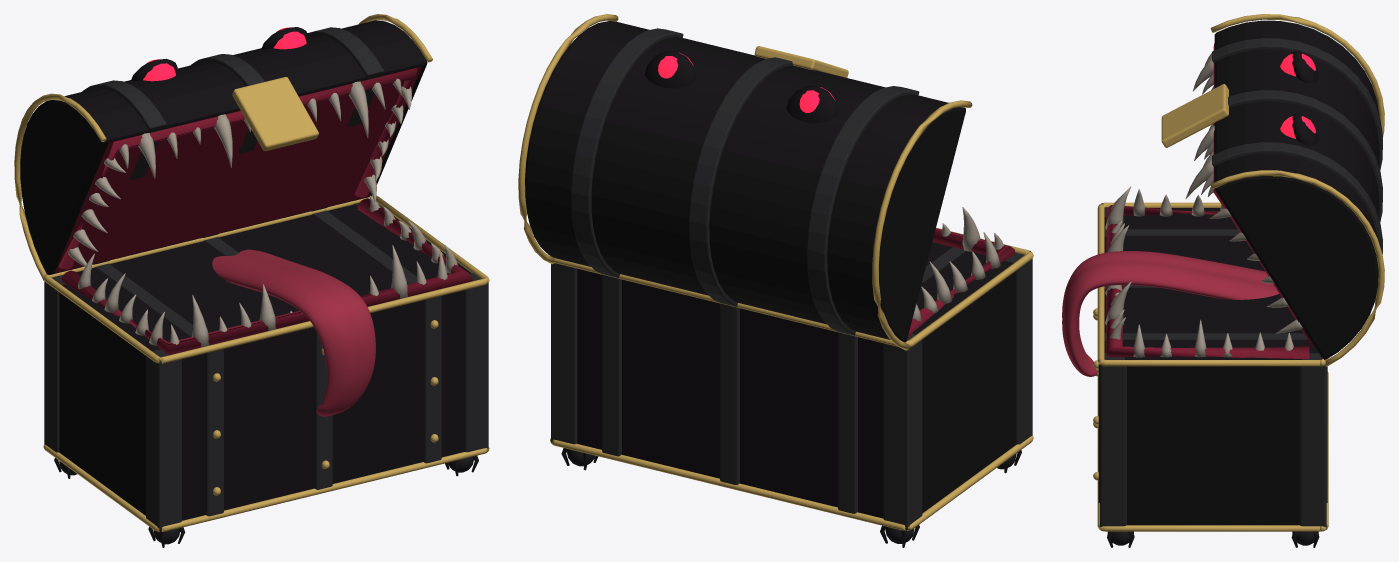
Rendered from wc-mimic.glb.
3 renders of one model, left to right at view 1: azimuth 30°, elevation 25°; view 2: azimuth 150°, elevation 25°; view 3: azimuth 270°, elevation 25°, orthographic. The views are drawn at different scales.
Visible parts, largest first — view 1: Part0__BlackLacquer__18_16_18; view 2: Part0__BlackLacquer__18_16_18; view 3: Part0__BlackLacquer__18_16_18.
Part boxes in pixels (box(x1,y1,x2,y2)): Part0__BlackLacquer__18_16_18: box(14, 14, 489, 547); Part0__BlackLacquer__18_16_18: box(518, 14, 1033, 547); Part0__BlackLacquer__18_16_18: box(1062, 14, 1384, 547).
Size of the model in its own units: 1.76 by 2 by 1.5.
